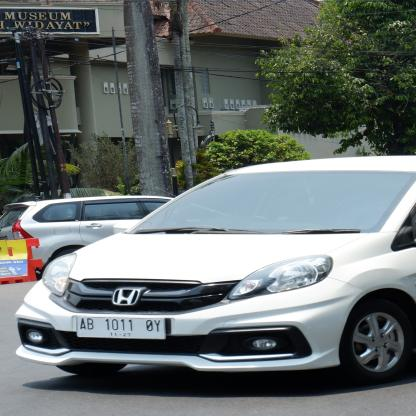Plat-Nomor: (72, 312, 170, 342)
